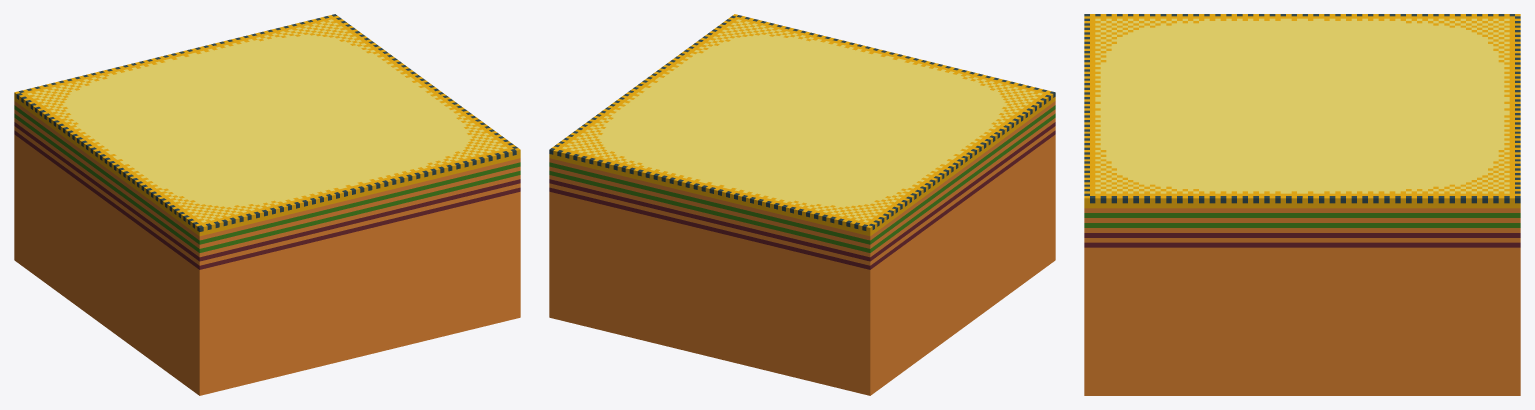
Rendered from sand_tile.obj.
3 renders of one model, left to right at view 1: azimuth 30°, elevation 25°; view 2: azimuth 150°, elevation 25°; view 3: azimuth 270°, elevation 25°, orthographic. The views are drawn at different scales.
Bounding box in the file's own units: 8 × 4 × 8.
Materials: 1 (1 with a texture image).
